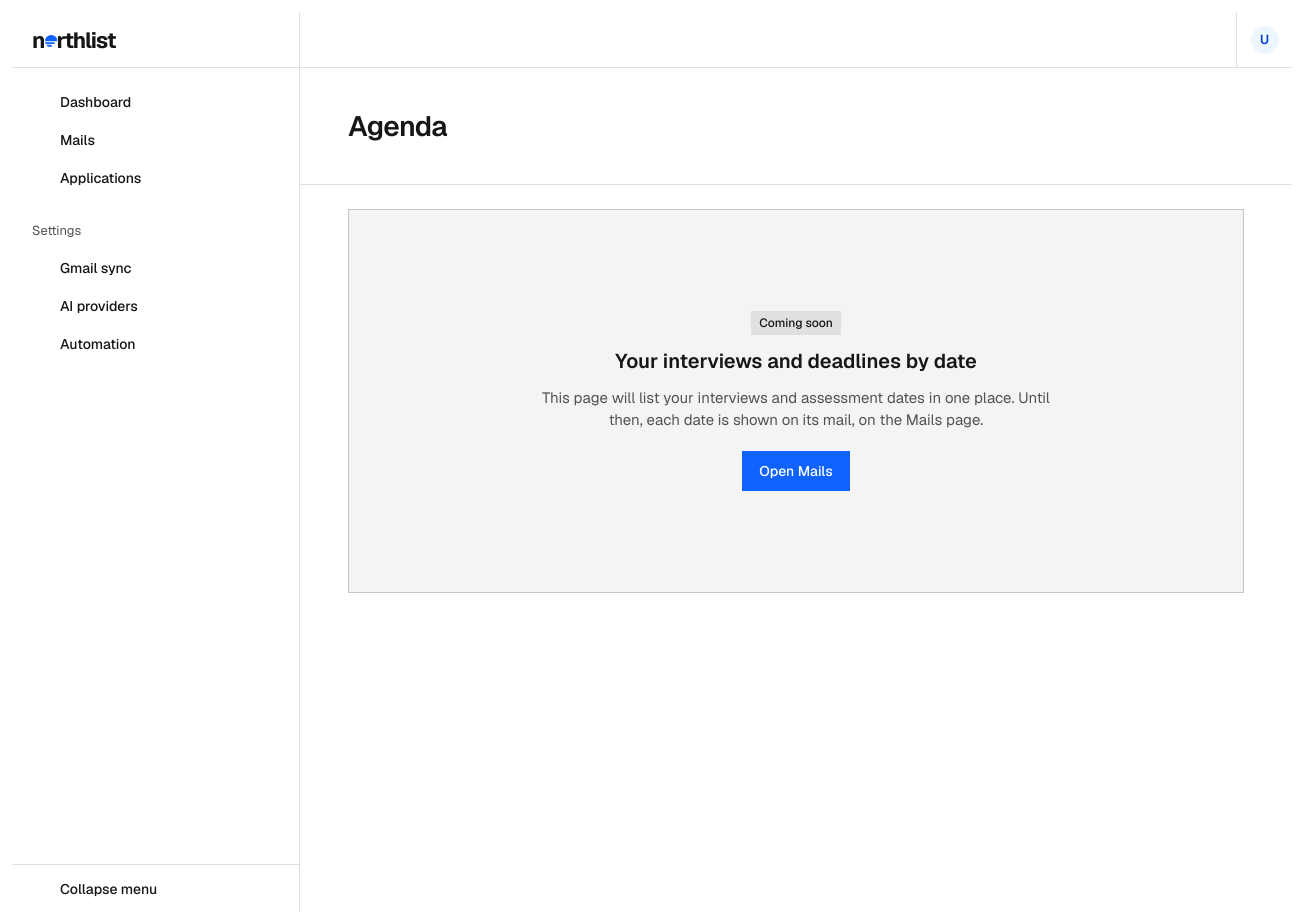
Scenario: home and navigation › shows only "Coming soon" on the Agenda, and none of the earlier Agenda page
Check: the heading "Agenda" is shown, box x1=348 y1=108 x2=447 y2=144
Check: the text "Coming soon" is shown, box x1=751 y1=311 x2=841 y2=335
What coordinates should you click on to do the following:
click the button "Open Mails"
I would click on:
 (796, 471)
Its box is x1=742 y1=451 x2=850 y2=491.
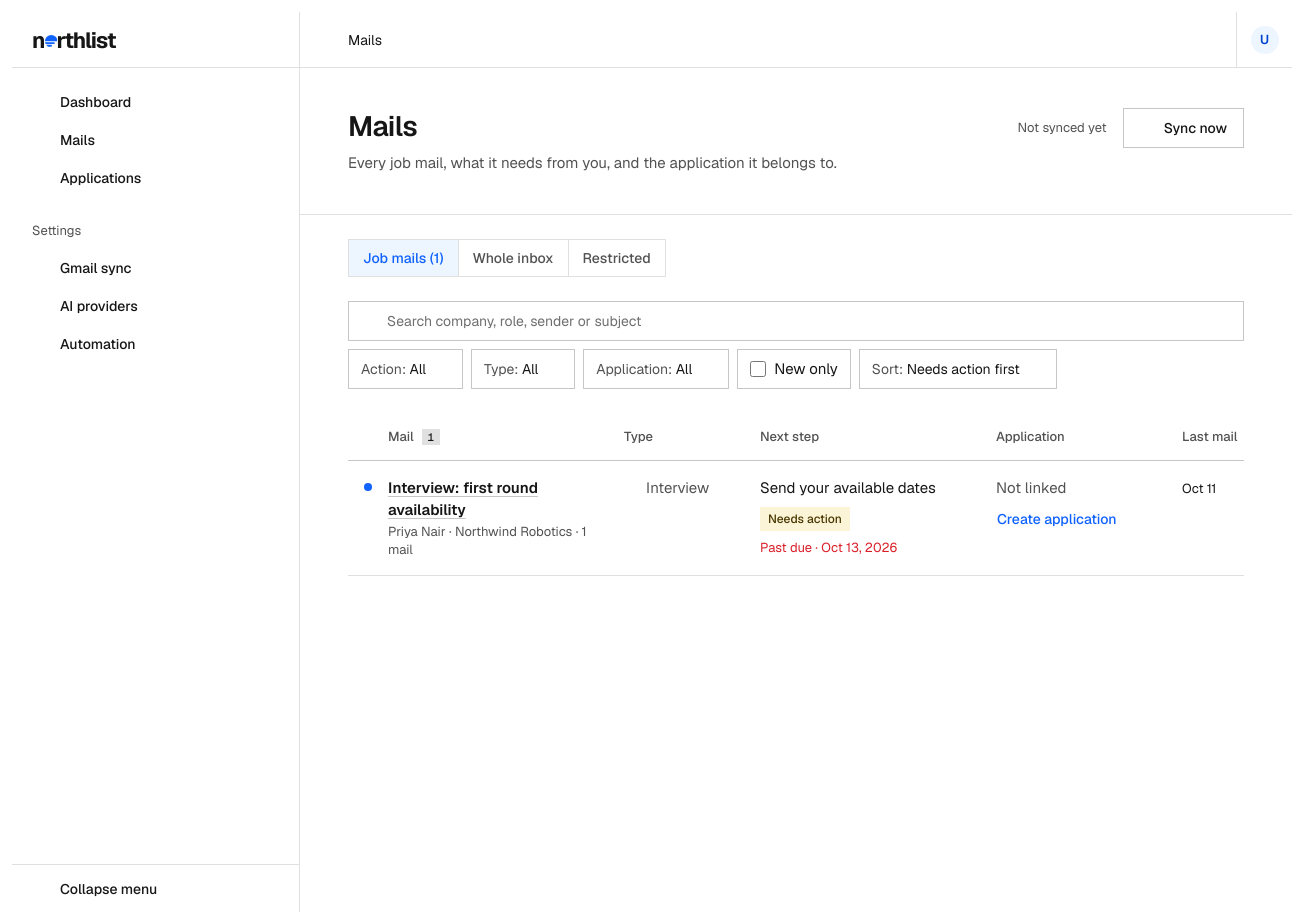
Check: the heading "Mails" is shown, box x1=348 y1=108 x2=417 y2=144
